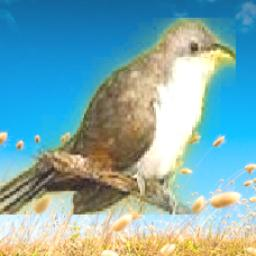Cuckoo: (0, 18, 237, 215)
